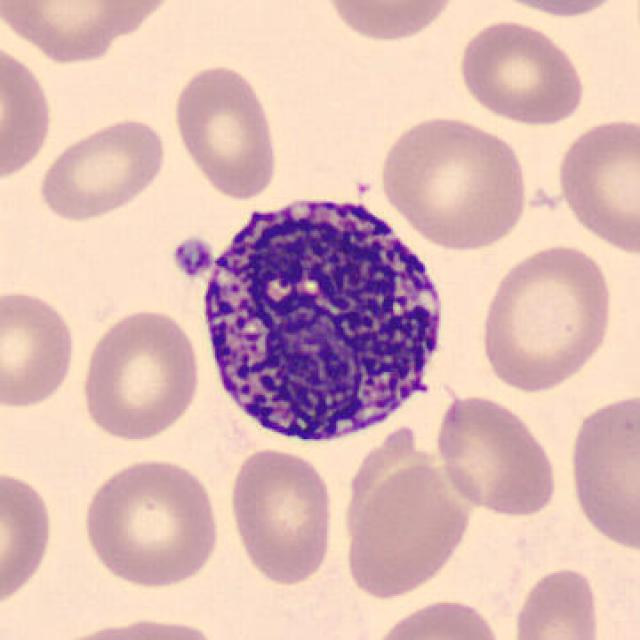Basophil: (190, 178, 457, 455)
Platelets: (167, 233, 215, 280)
RBC: (375, 111, 532, 252), (476, 240, 617, 395), (338, 457, 476, 603), (78, 455, 224, 591), (76, 304, 202, 444), (432, 390, 562, 520), (224, 442, 338, 589), (169, 60, 283, 203), (34, 113, 170, 224), (454, 16, 588, 127), (551, 113, 638, 257), (564, 388, 638, 553), (0, 0, 171, 65), (0, 286, 80, 410), (0, 37, 57, 187), (0, 464, 57, 614), (508, 564, 602, 640), (366, 594, 505, 640), (320, 0, 462, 44), (55, 613, 231, 640), (478, 0, 632, 19)
